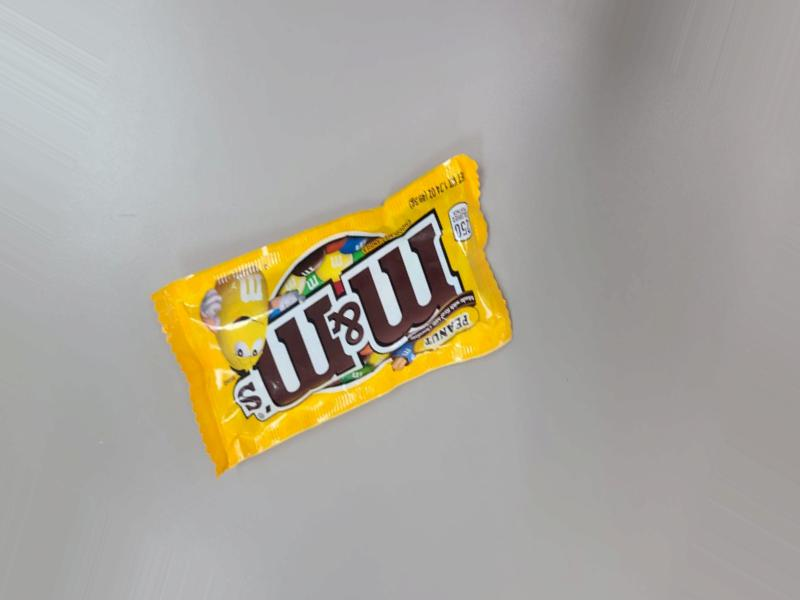m&m: (147, 132, 512, 482)
